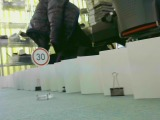speed_30: (30, 47, 50, 66)
